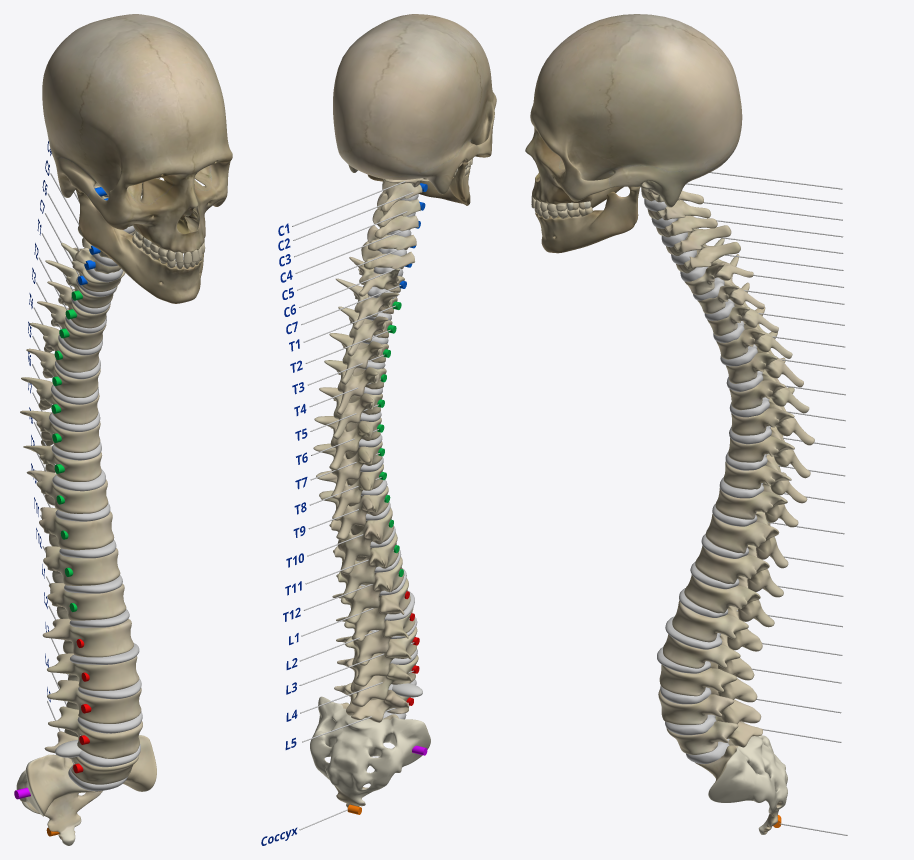
The model's file is spine-hernia.glb.
The picture shows the model from 3 angles, left to right: view 1: azimuth 30°, elevation 25°; view 2: azimuth 150°, elevation 25°; view 3: azimuth 270°, elevation 25°; orthographic projection. The views are drawn at different scales.
Visible parts, largest first — view 1: Male_Skeletal_Skull_Geo, Male_Skeletal_Intervertabral_Discs_Geo, Male_Skeletal_Sacrum_Geo, Male_Skeletal_Mandible_Geo, Male_Skeletal_L01_Geo, Male_Skeletal_T10_Geo, Male_Skeletal_L03_Geo, Male_Skeletal_L04_Geo, Male_Skeletal_T12_Geo, Male_Skeletal_T11_Geo, Male_Skeletal_L02_Geo, Male_Skeletal_T09_Geo (+11 smaller); view 2: Male_Skeletal_Skull_Geo, Male_Skeletal_Sacrum_Geo, Male_Skeletal_Intervertabral_Discs_Geo, Male_Skeletal_T10_Geo, Male_Skeletal_L03_Geo, Male_Skeletal_T11_Geo, Male_Skeletal_L04_Geo, Male_Skeletal_L01_Geo, Male_Skeletal_T12_Geo, Male_Skeletal_T06_Geo, Male_Skeletal_L02_Geo, Male_Skeletal_T07_Geo (+15 smaller); view 3: Male_Skeletal_Skull_Geo, Male_Skeletal_Intervertabral_Discs_Geo, Male_Skeletal_Sacrum_Geo, Male_Skeletal_Mandible_Geo, Male_Skeletal_L01_Geo, Male_Skeletal_T10_Geo, Male_Skeletal_T11_Geo, Male_Skeletal_T12_Geo, Male_Skeletal_L03_Geo, Male_Skeletal_L04_Geo, Male_Skeletal_L02_Geo, Male_Skeletal_T09_Geo (+14 smaller).
Boxes of the visible parts, bbox=[...] form: Male_Skeletal_Skull_Geo: bbox=[42, 14, 232, 253]; Male_Skeletal_Intervertabral_Discs_Geo: bbox=[49, 225, 142, 791]; Male_Skeletal_Sacrum_Geo: bbox=[16, 735, 156, 845]; Male_Skeletal_Mandible_Geo: bbox=[75, 188, 203, 303]; Male_Skeletal_L01_Geo: bbox=[42, 618, 133, 657]; Male_Skeletal_T10_Geo: bbox=[39, 507, 114, 550]; Male_Skeletal_L03_Geo: bbox=[47, 680, 141, 723]; Male_Skeletal_L04_Geo: bbox=[48, 706, 142, 758]; Male_Skeletal_T12_Geo: bbox=[47, 583, 126, 620]; Male_Skeletal_T11_Geo: bbox=[43, 546, 120, 585]; Male_Skeletal_L02_Geo: bbox=[47, 653, 139, 690]; Male_Skeletal_T09_Geo: bbox=[26, 470, 108, 513]; Male_Skeletal_Skull_Geo: bbox=[333, 14, 496, 194]; Male_Skeletal_Sacrum_Geo: bbox=[310, 696, 430, 807]; Male_Skeletal_Intervertabral_Discs_Geo: bbox=[348, 194, 418, 719]; Male_Skeletal_T10_Geo: bbox=[329, 507, 393, 574]; Male_Skeletal_L03_Geo: bbox=[336, 627, 417, 686]; Male_Skeletal_T11_Geo: bbox=[333, 532, 398, 599]; Male_Skeletal_L04_Geo: bbox=[337, 655, 418, 706]; Male_Skeletal_L01_Geo: bbox=[332, 578, 410, 641]; Male_Skeletal_T12_Geo: bbox=[336, 557, 404, 623]; Male_Skeletal_T06_Geo: bbox=[314, 416, 381, 470]; Male_Skeletal_L02_Geo: bbox=[336, 607, 415, 665]; Male_Skeletal_T07_Geo: bbox=[313, 441, 382, 499]; Male_Skeletal_Skull_Geo: bbox=[525, 14, 742, 207]; Male_Skeletal_Intervertabral_Discs_Geo: bbox=[644, 199, 771, 764]; Male_Skeletal_Sacrum_Geo: bbox=[695, 721, 787, 834]; Male_Skeletal_Mandible_Geo: bbox=[535, 186, 639, 253]; Male_Skeletal_L01_Geo: bbox=[672, 600, 762, 651]; Male_Skeletal_T10_Geo: bbox=[705, 511, 788, 568]; Male_Skeletal_T11_Geo: bbox=[695, 545, 783, 597]; Male_Skeletal_T12_Geo: bbox=[684, 574, 774, 627]; Male_Skeletal_L03_Geo: bbox=[659, 662, 757, 702]; Male_Skeletal_L04_Geo: bbox=[658, 688, 761, 724]; Male_Skeletal_L02_Geo: bbox=[663, 634, 754, 680]; Male_Skeletal_T09_Geo: bbox=[715, 472, 798, 527].
Size of the model in its own units: 0.1387 by 0.8166 by 0.3415.
13 materials, 5 textured.
